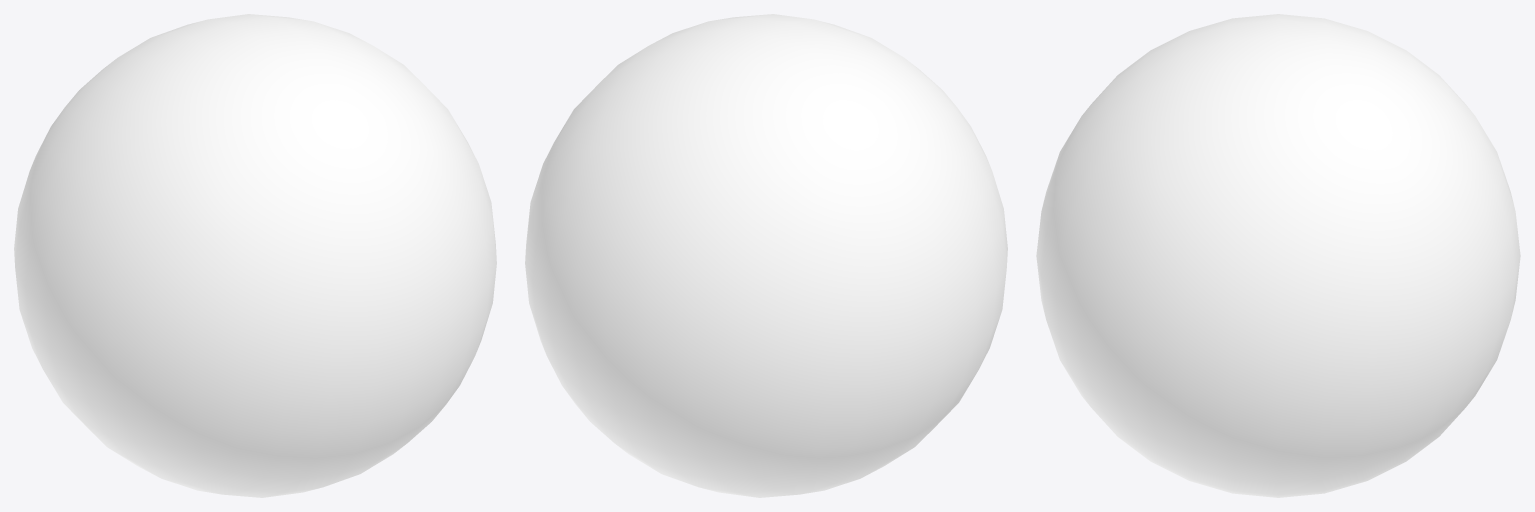
File: spheretest.glb
The picture shows the model from 3 angles, left to right: view 1: azimuth 30°, elevation 25°; view 2: azimuth 150°, elevation 25°; view 3: azimuth 270°, elevation 25°; orthographic projection.
Parts seen in each view (by area): view 1: Cube; view 2: Cube; view 3: Cube.
Boxes of the visible parts, x1,y1,x2,y2 form: Cube: (14, 14, 496, 497); Cube: (525, 14, 1007, 497); Cube: (1036, 14, 1520, 497).
Bounding box in the file's own units: 1.71 × 1.71 × 1.71.
1 material, 1 textured.
